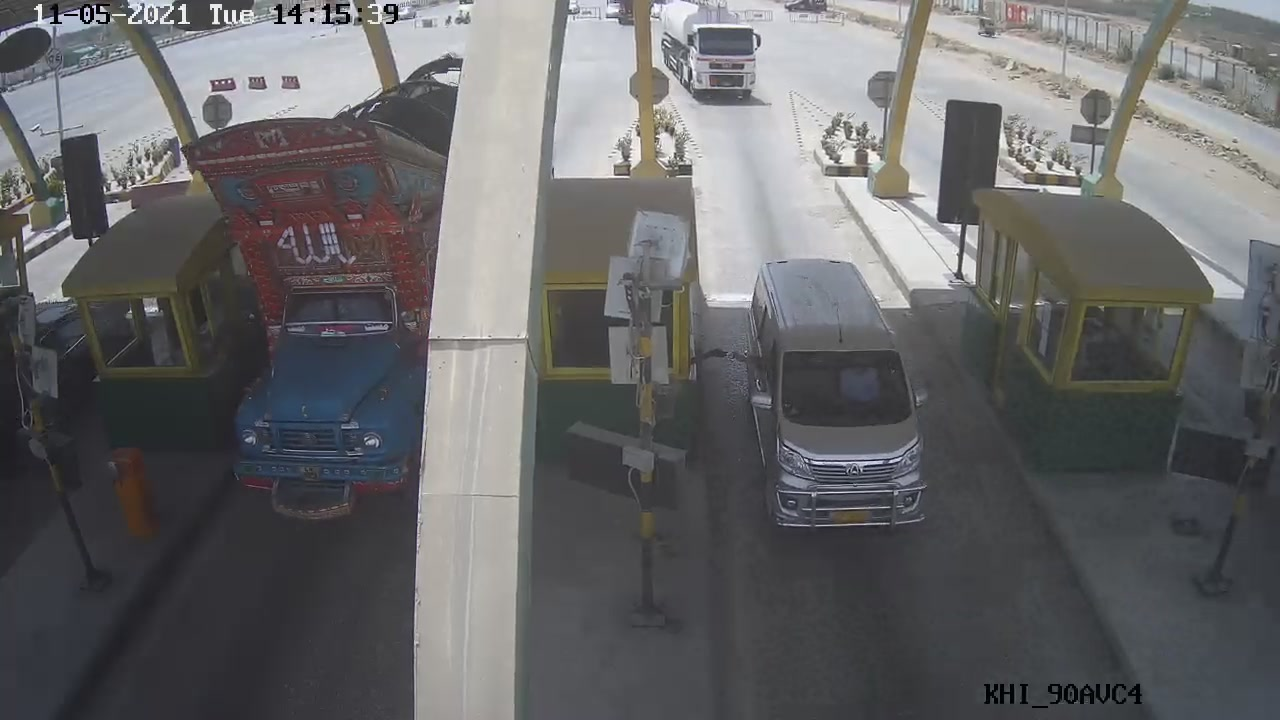F1: (729, 243, 931, 555)
